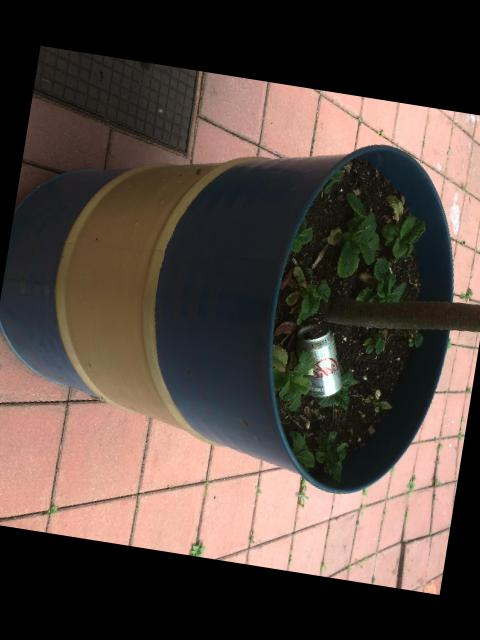metal: (296, 324, 341, 397)
